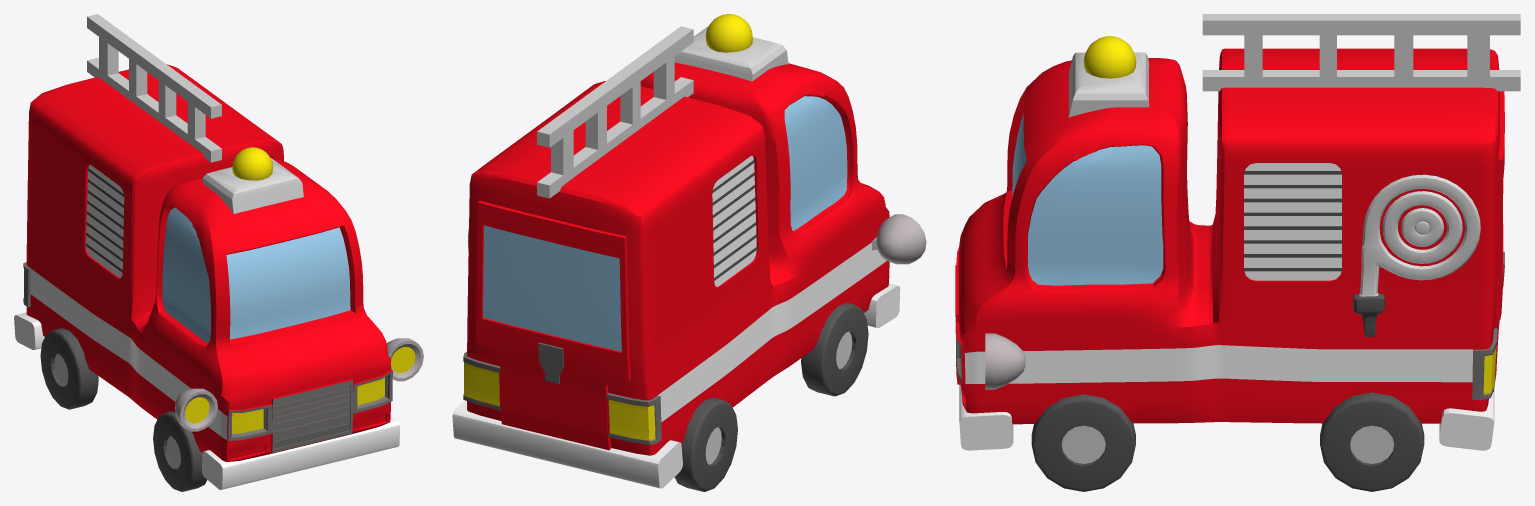
File: pojarni1.glb
3 views of the same model, side by side, from view 1: azimuth 30°, elevation 25°; view 2: azimuth 150°, elevation 25°; view 3: azimuth 270°, elevation 25° (orthographic). The views are drawn at different scales.
Visible parts, largest first — view 1: pojarni; view 2: pojarni; view 3: pojarni.
Part boxes in pixels (box(x1,y1,x2,y2)): pojarni: box(14, 14, 423, 491); pojarni: box(452, 14, 926, 491); pojarni: box(955, 14, 1520, 491).
Size of the model in its own units: 2.93 by 3.75 by 4.59.
